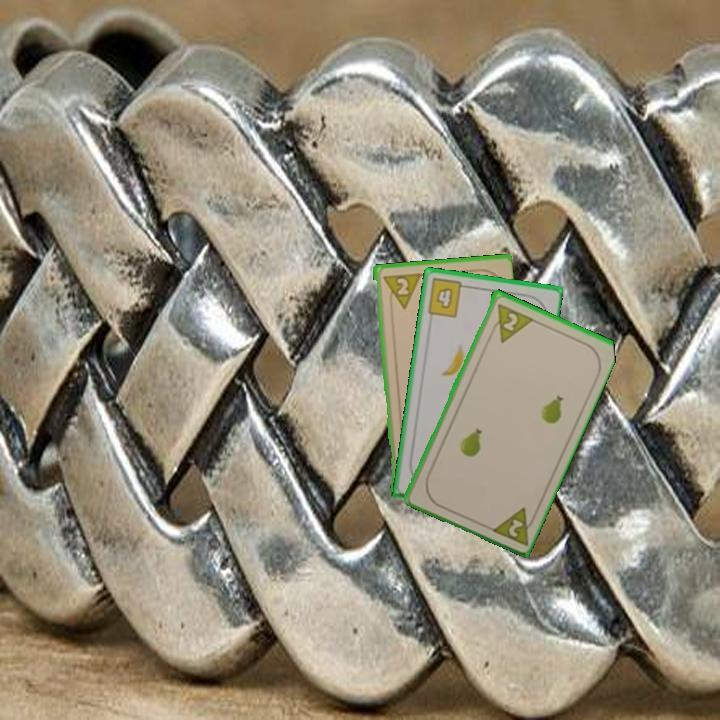2p: (486, 503, 540, 548), (485, 299, 535, 345), (379, 269, 422, 312)
4b: (424, 275, 471, 320)
